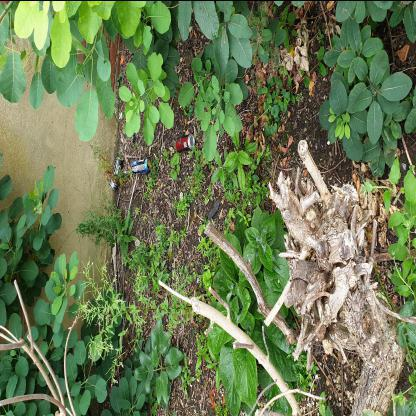metal: (110, 157, 124, 192), (176, 134, 196, 154), (133, 158, 153, 175)
